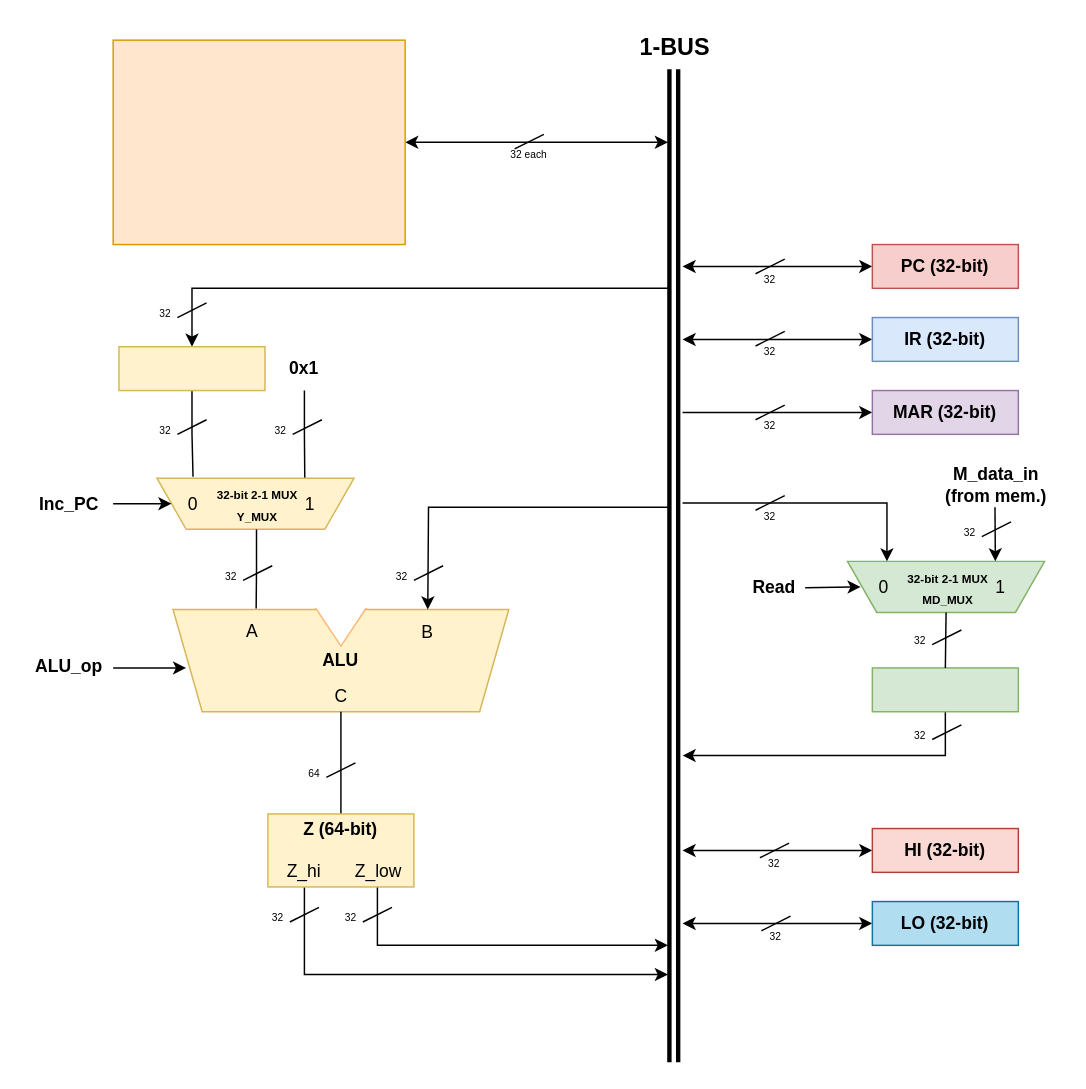
The diagram is 1086 pixels wide and 1089 high, and some of its shapes have lost their labels. The centre of each missing label's shape, as x and y in pixels:
"MDR (32-bit)" belongs at (x=944, y=689).
"REGISTER FILE General Purpose 32-bit Registers (R0 to R15)" belongs at (x=258, y=142).
"Y (32-bit)" belongs at (x=191, y=368).
